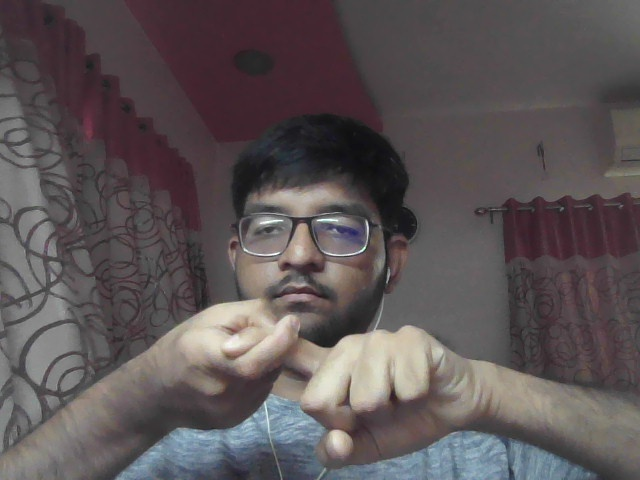મિત્ર: (119, 291, 487, 477)
